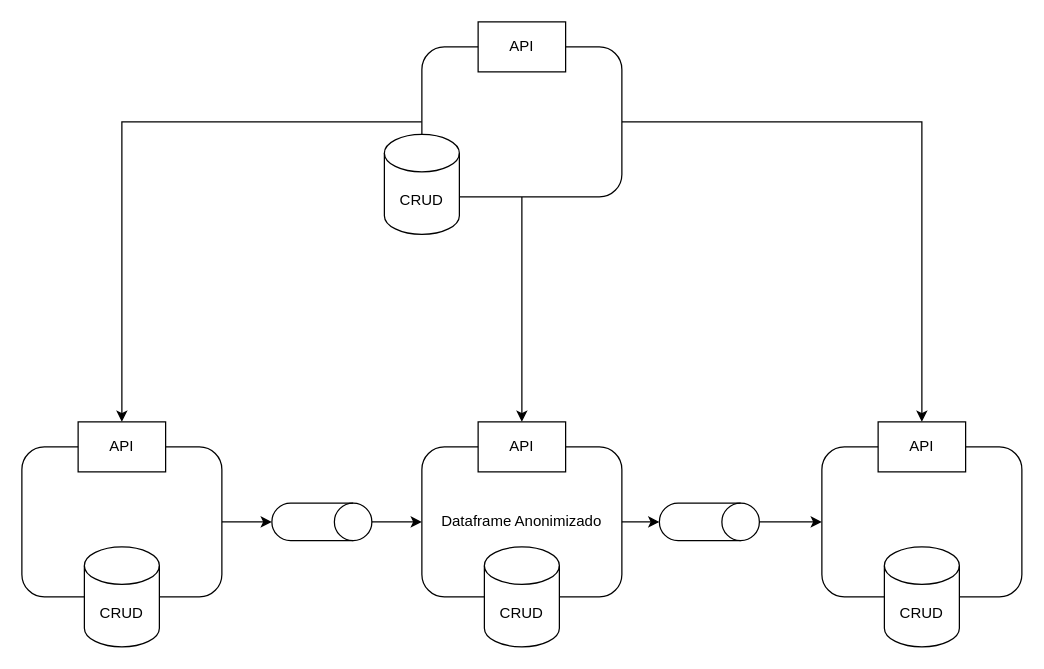
The diagram is 1044 pixels wide and 669 high, and some of its shapes have lost their labels. The shapes that lost their labels are listed below. From the top down, each one's box as (x1, y1, x2, y2) in pixels, then its label:
(421, 46, 622, 197): Gestión de usuarios
(21, 446, 222, 597): Imagenes Medicas
(271, 502, 372, 541): Topico anonimizació n
(658, 502, 759, 541): Topico acceso a data
(821, 446, 1022, 597): Monetización Dataframes
